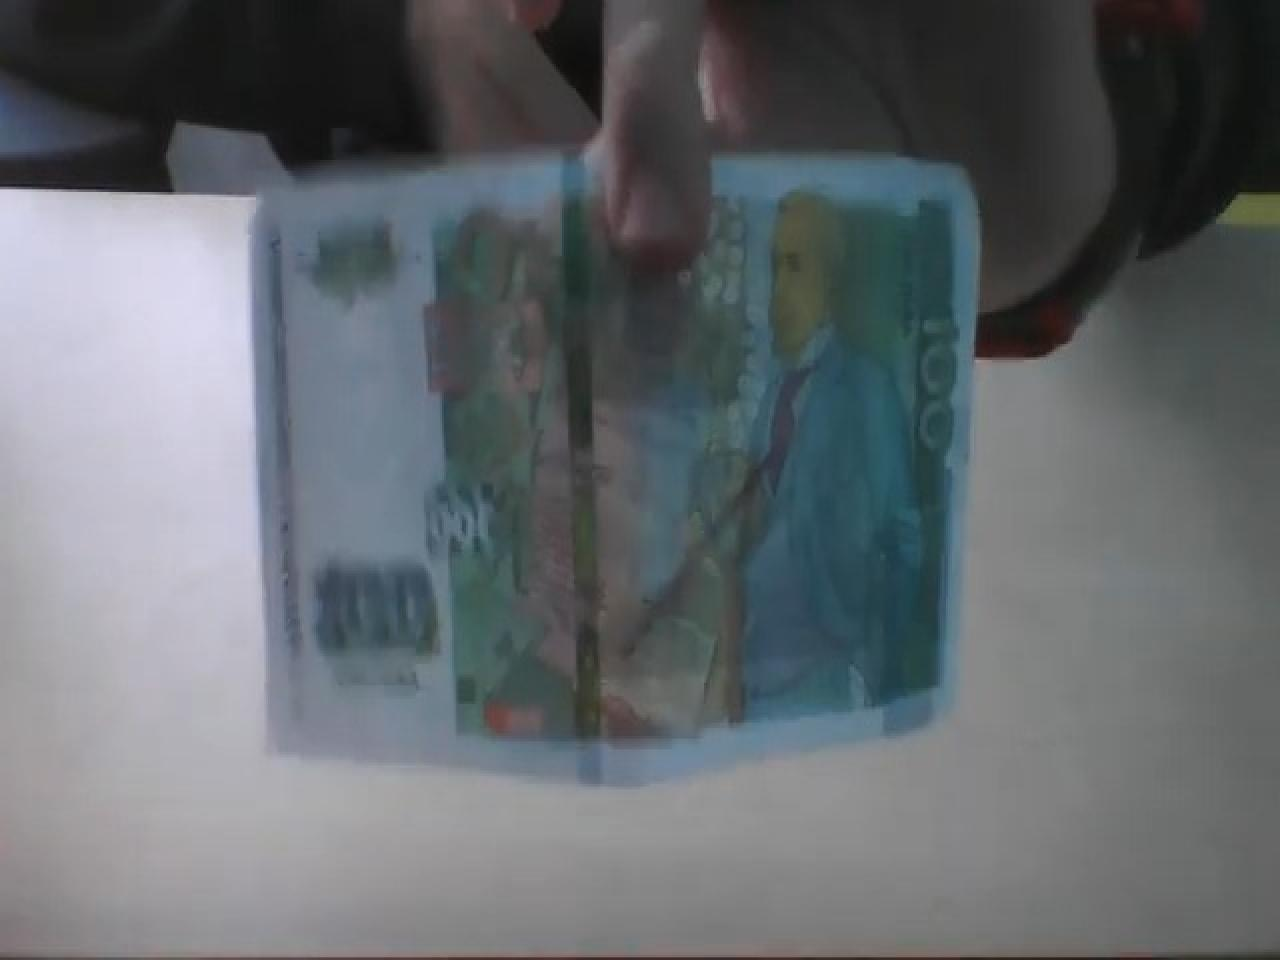100leva: (258, 144, 980, 776)
